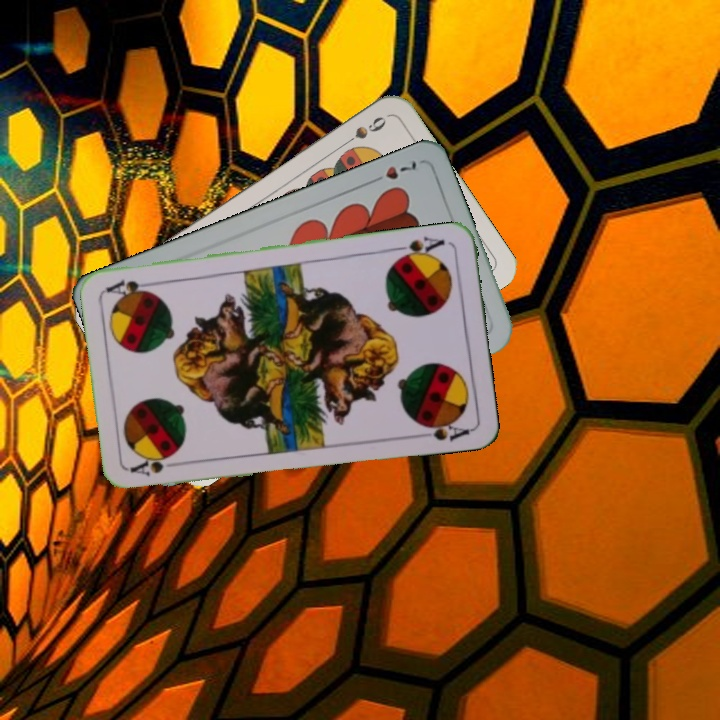H7: (366, 156, 419, 187)
S9: (337, 112, 389, 150)
SA: (125, 450, 185, 479), (391, 232, 447, 263)
